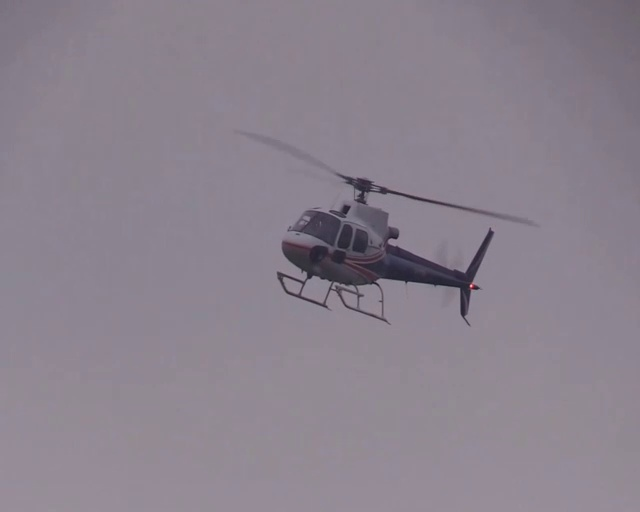HELICOPTER: (232, 123, 540, 329)
